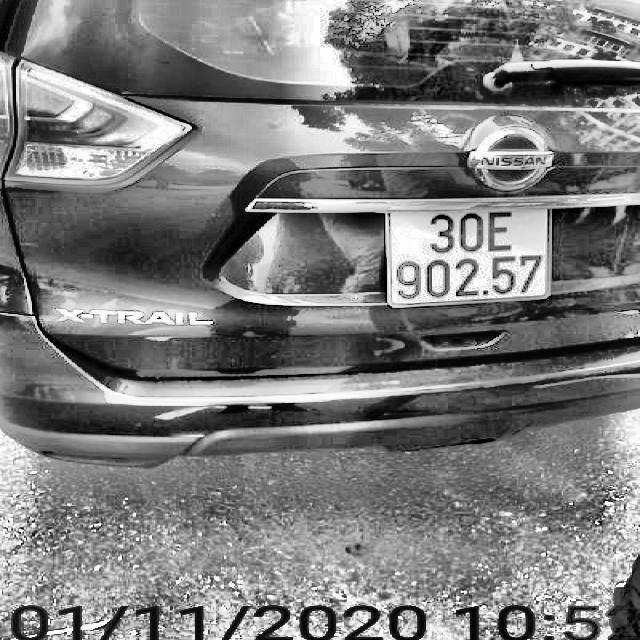plate: (378, 204, 560, 311)
